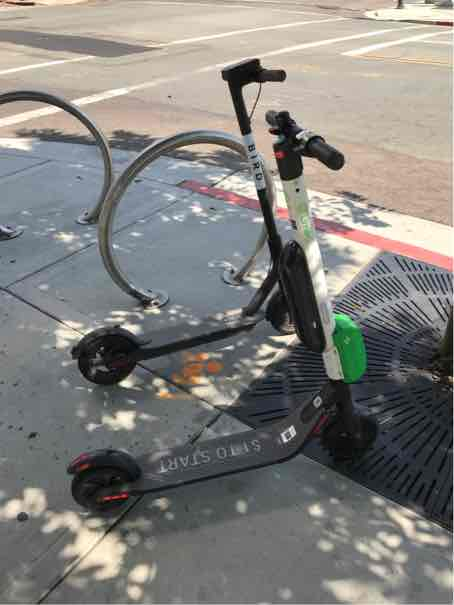scooter: (64, 97, 369, 520)
